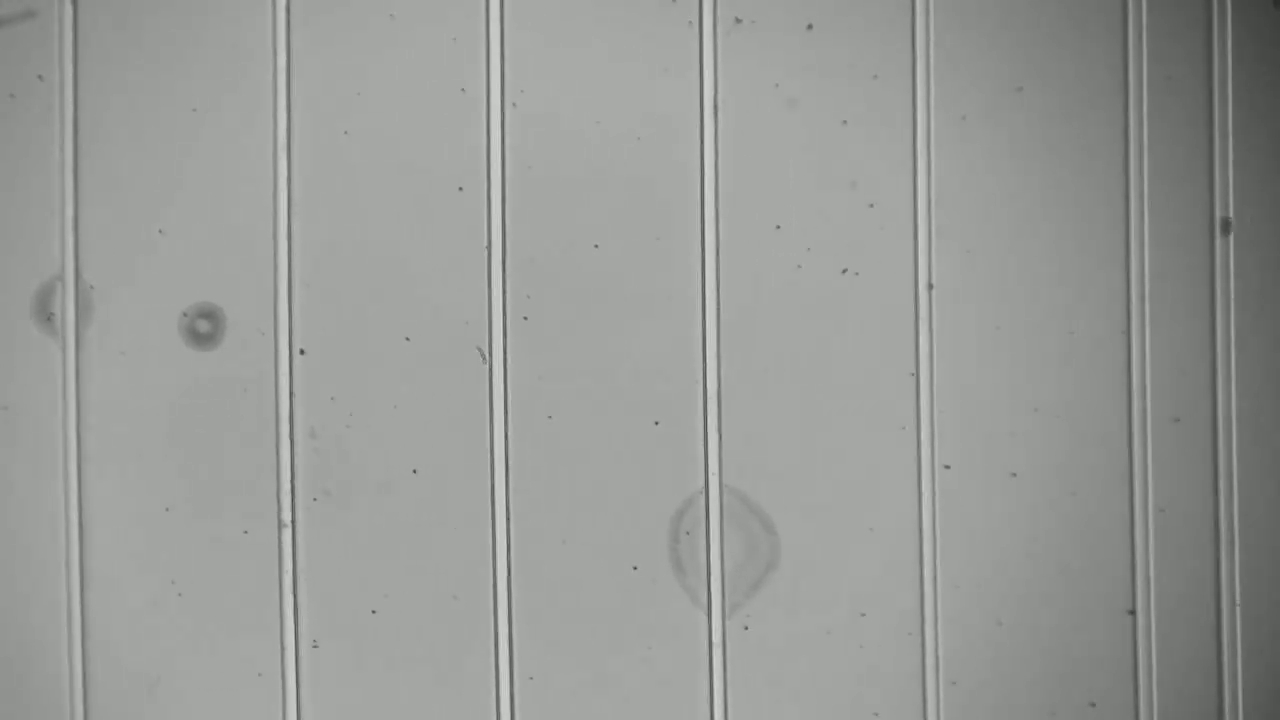stains_enbedded: (1208, 208, 1241, 242)
